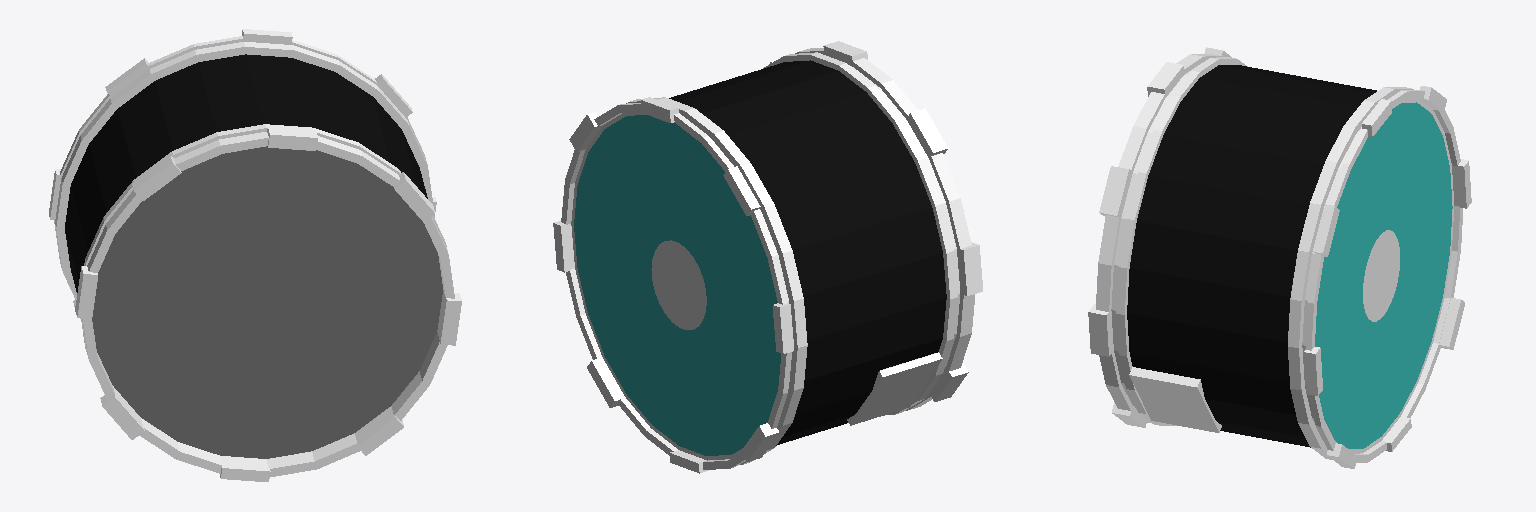
Rendered from Kick2.obj.
3 views of the same model, side by side, from view 1: azimuth 30°, elevation 25°; view 2: azimuth 150°, elevation 25°; view 3: azimuth 270°, elevation 25° (orthographic).
Visible parts, largest first — view 1: ComponentFBXASC0352_001; view 2: ComponentFBXASC0352_001; view 3: ComponentFBXASC0352_001.
Part boxes in pixels (x1,y1,x2,y2): ComponentFBXASC0352_001: (49,29,461,481); ComponentFBXASC0352_001: (553,41,982,473); ComponentFBXASC0352_001: (1088,47,1471,468).
Bounding box in the file's own units: 491 × 419 × 414.